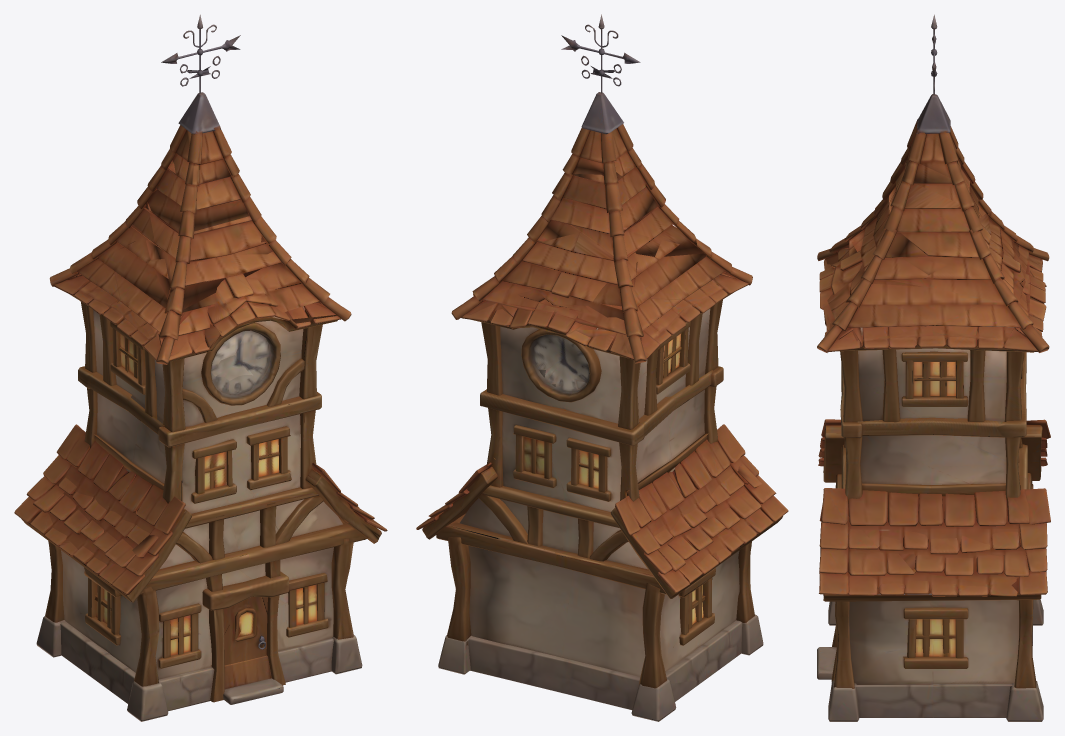
File: clock_tower.glb
The picture shows the model from 3 angles, left to right: view 1: azimuth 30°, elevation 25°; view 2: azimuth 150°, elevation 25°; view 3: azimuth 270°, elevation 25°; orthographic projection.
Parts seen in each view (by area): view 1: geometry_0; view 2: geometry_0; view 3: geometry_0.
Part boxes in pixels (bbox=[...]): geometry_0: bbox=[14, 14, 387, 721]; geometry_0: bbox=[416, 14, 788, 721]; geometry_0: bbox=[817, 14, 1050, 721].
Size of the model in its own units: 0.4062 by 0.9521 by 0.3086.
1 material, 1 textured.
